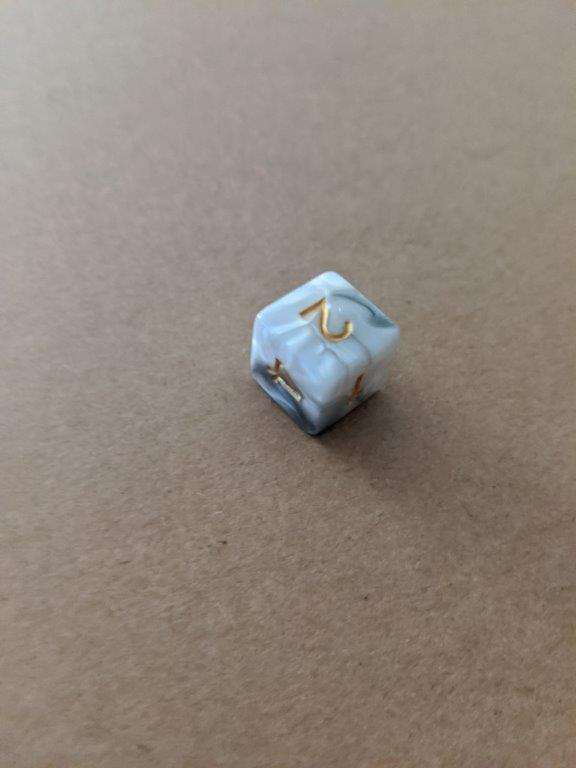d6-2: (249, 267, 397, 439)
